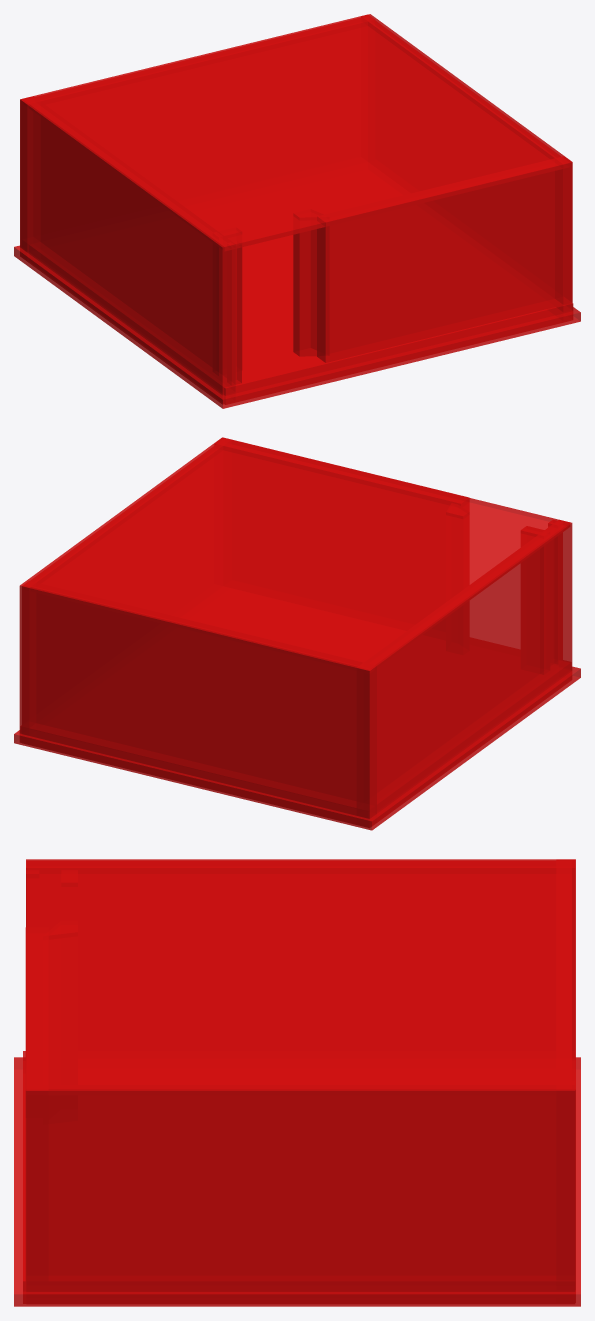
Rendered from SM_Bld_City_Section_Base_02_Collision.fbx.
The picture shows the model from 3 angles, top to bottom: view 1: azimuth 30°, elevation 25°; view 2: azimuth 150°, elevation 25°; view 3: azimuth 270°, elevation 25°; orthographic projection. The views are drawn at different scales.
Parts seen in each view (by area): view 1: SM_Bld_City_Section_Base_02_Collision; view 2: SM_Bld_City_Section_Base_02_Collision; view 3: SM_Bld_City_Section_Base_02_Collision.
Boxes of the visible parts, bbox=[...] form: SM_Bld_City_Section_Base_02_Collision: bbox=[14, 14, 580, 408]; SM_Bld_City_Section_Base_02_Collision: bbox=[14, 437, 580, 830]; SM_Bld_City_Section_Base_02_Collision: bbox=[14, 859, 580, 1306].
Bounding box in the file's own units: 767 × 321 × 775.
